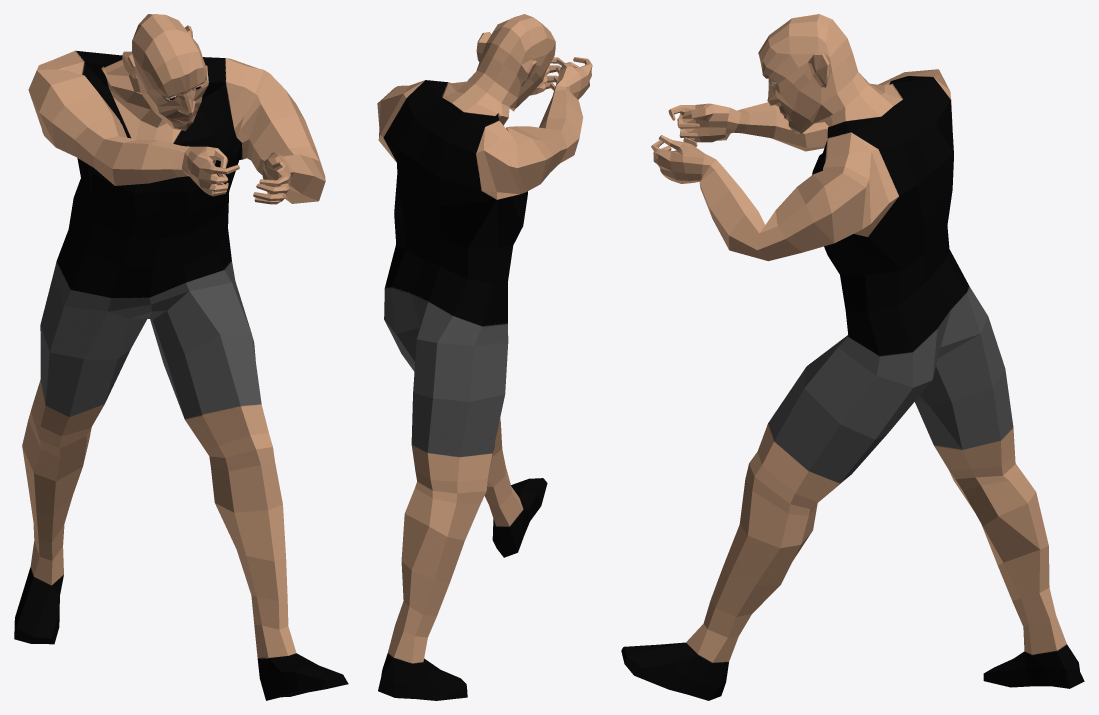
The model's file is PlayerWalk(2).obj.
3 views of the same model, side by side, from view 1: azimuth 30°, elevation 25°; view 2: azimuth 150°, elevation 25°; view 3: azimuth 270°, elevation 25° (orthographic). The views are drawn at different scales.
Parts seen in each view (by area): view 1: Plane002; view 2: Plane002; view 3: Plane002.
Boxes of the visible parts, bbox=[...] form: Plane002: bbox=[14, 14, 348, 700]; Plane002: bbox=[377, 14, 592, 700]; Plane002: bbox=[621, 14, 1084, 700].
Bounding box in the file's own units: 582 × 1721 × 1073.
